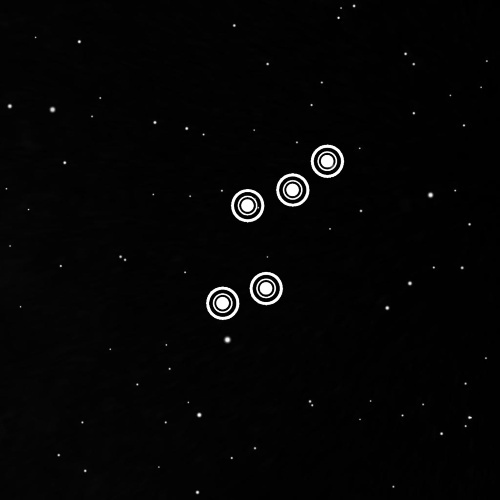lyra: (201, 127, 356, 331)
